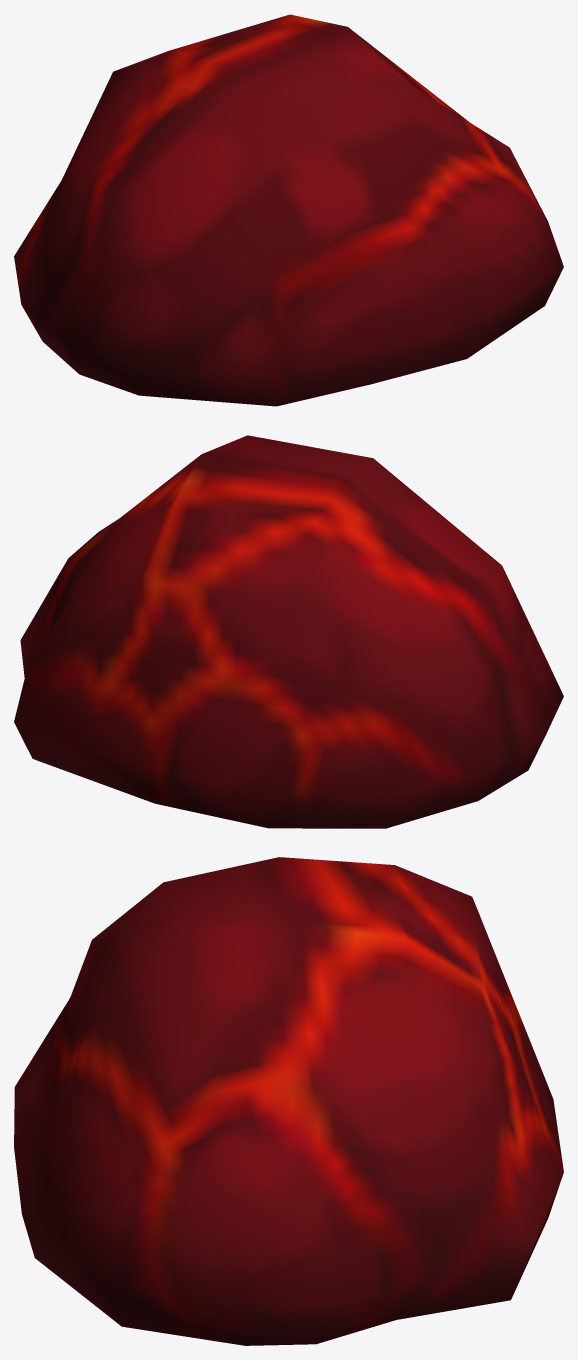
File: Lava_Rock_02b.FBX
3 renders of one model, top to bottom at view 1: azimuth 30°, elevation 25°; view 2: azimuth 150°, elevation 25°; view 3: azimuth 270°, elevation 25°, orthographic. The views are drawn at different scales.
Visible parts, largest first — view 1: Lava_Rock_02b; view 2: Lava_Rock_02b; view 3: Lava_Rock_02b.
Boxes of the visible parts, left/top/right/bottom form: Lava_Rock_02b: left=14, top=14, right=563, bottom=406; Lava_Rock_02b: left=14, top=435, right=563, bottom=828; Lava_Rock_02b: left=14, top=857, right=563, bottom=1345.
Size of the model in its own units: 32.48 by 16.45 by 25.59.
